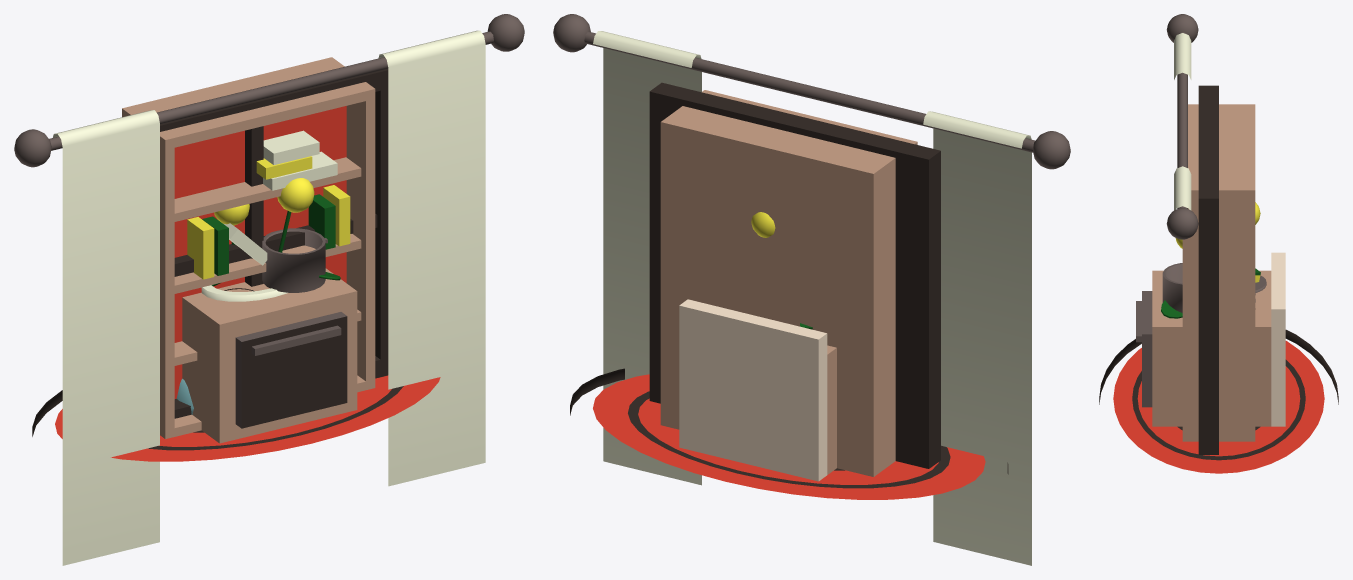
Rendered from furniture.fbx.
3 views of the same model, side by side, from view 1: azimuth 30°, elevation 25°; view 2: azimuth 150°, elevation 25°; view 3: azimuth 270°, elevation 25° (orthographic). The views are drawn at different scales.
Parts seen in each view (by area): view 1: window, shelf, countertop_oven, countertop_sink, rug, plant; view 2: window, shelf, countertop_sink, rug; view 3: shelf, window, rug, countertop_sink, countertop_oven, plant.
Boxes of the visible parts, box(x1,y1,x2,y2) form: window: box(14, 14, 524, 565); shelf: box(122, 57, 375, 438); countertop_oven: box(184, 228, 357, 442); countertop_sink: box(182, 268, 357, 443); rug: box(32, 375, 440, 461); plant: box(211, 178, 340, 286); window: box(553, 14, 1070, 565); shelf: box(660, 90, 917, 476); countertop_sink: box(679, 299, 836, 481); rug: box(570, 368, 1008, 499); shelf: box(1182, 104, 1255, 441); window: box(1166, 14, 1218, 454); rug: box(1099, 329, 1338, 473); countertop_sink: box(1152, 252, 1285, 426); countertop_oven: box(1136, 263, 1271, 407); plant: box(1161, 202, 1260, 318).
Size of the model in its own units: 1103 by 911 by 539.
